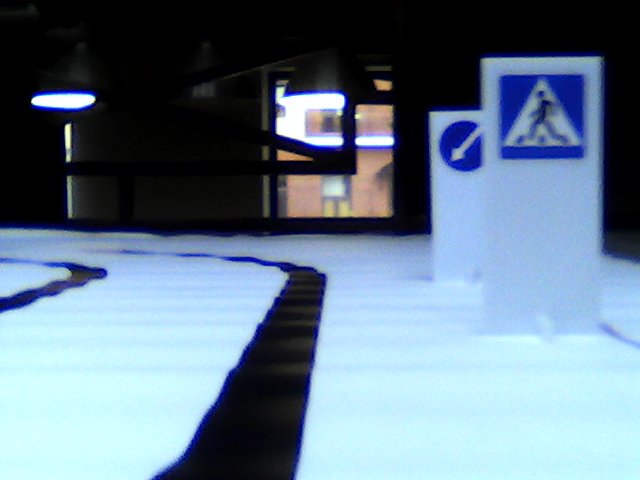pesh: (499, 72, 585, 157)
prep: (438, 119, 480, 172)
